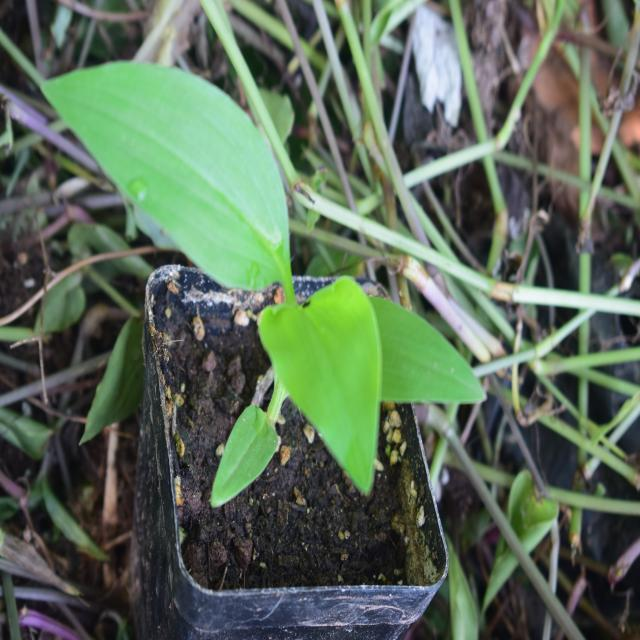Common Dayflower: (53, 47, 445, 467)
